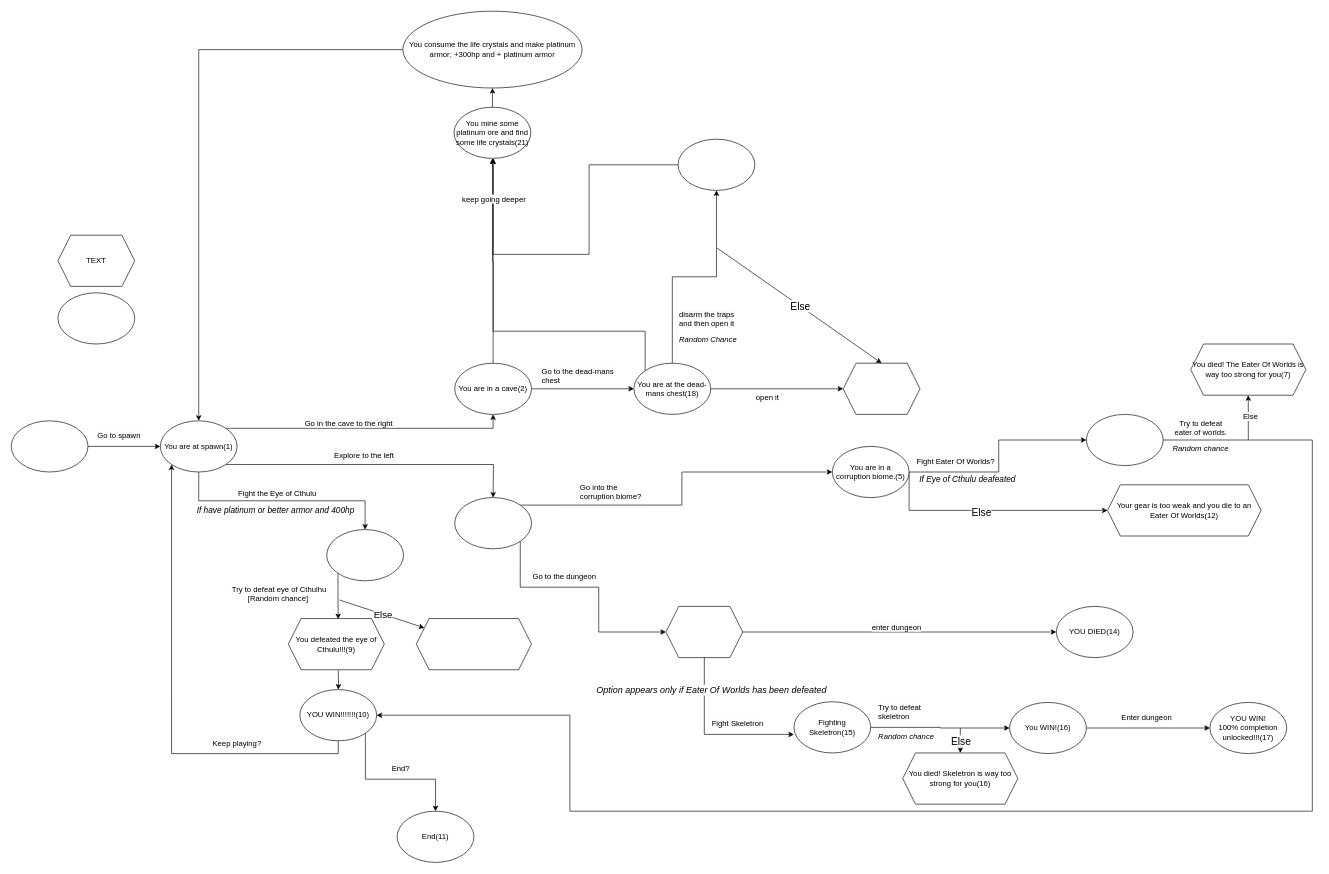
The diagram is 1329 pixels wide and 874 high, and some of its shapes have lost their labels. Here are the shapes that lost their labels. From the top down, the box of each, then its label:
(677, 139, 755, 190): You recieve an enchanted Boomerang(20)
(57, 292, 135, 344): ACTION
(843, 363, 920, 414): YOU DIED(19)
(11, 420, 88, 472): Loaded into a new world(0)
(1086, 414, 1163, 466): Fighting Eater Of Worlds(6)
(454, 497, 532, 549): You are in an open field(3)
(326, 529, 404, 581): Fighting the eye of Cthulhu(4)
(416, 618, 531, 670): You died! The eye of Cthulu is way too strong for you(8)
(665, 606, 743, 658): You are at a dungeon(13)
